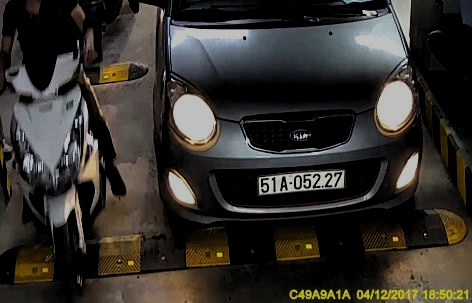plate: (257, 168, 344, 195)
